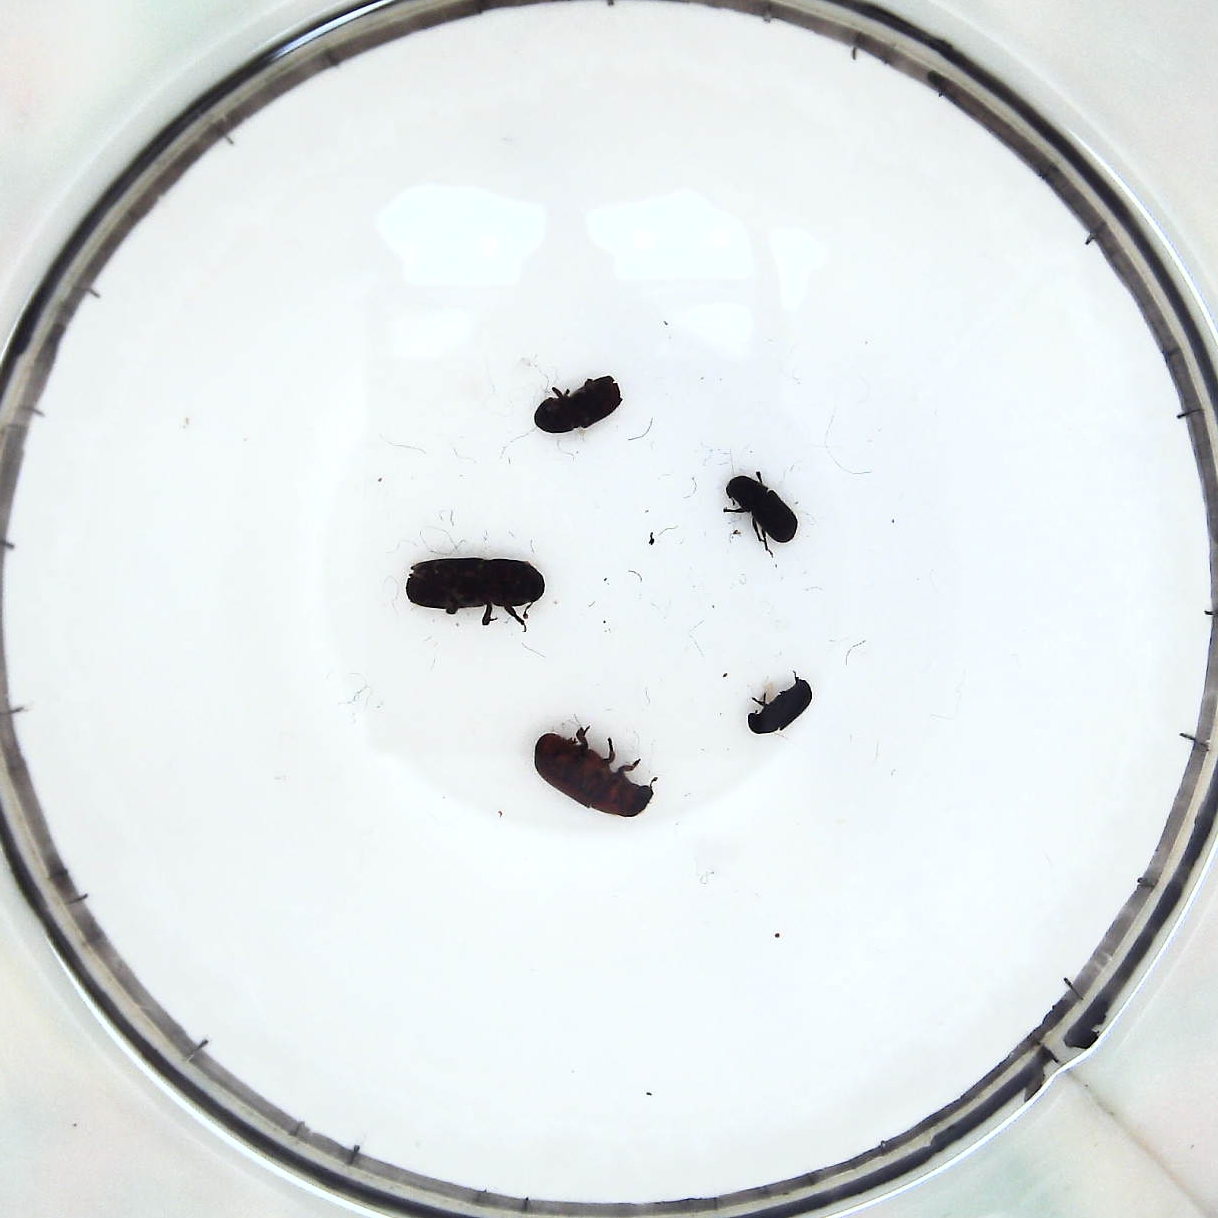Boerner: (404, 549, 549, 623)
Leconte: (534, 731, 654, 821)
Linnaeus: (531, 373, 619, 434)
armandi: (725, 471, 801, 550)
coleoptera: (750, 676, 816, 739)
